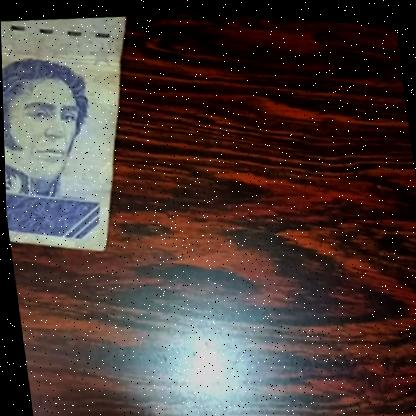ten-front-vef: (0, 6, 163, 262)
